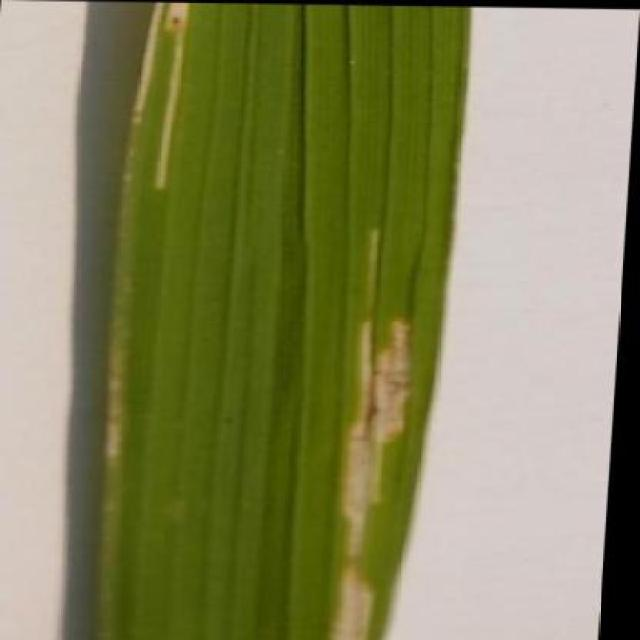Brown_Spot: (92, 1, 476, 637)
